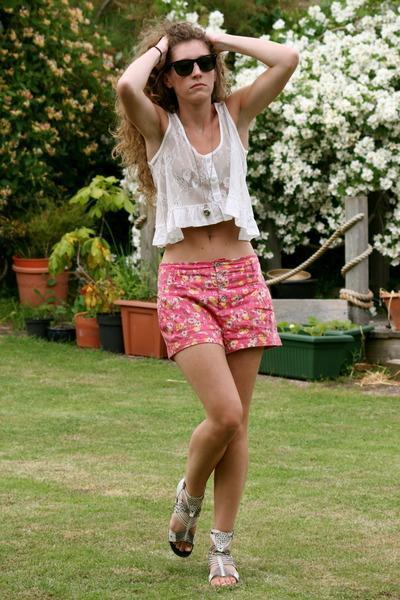shirt: (132, 108, 260, 247)
shoe: (169, 477, 238, 585)
shorts: (156, 256, 281, 359)
sunglass: (189, 41, 216, 72)
